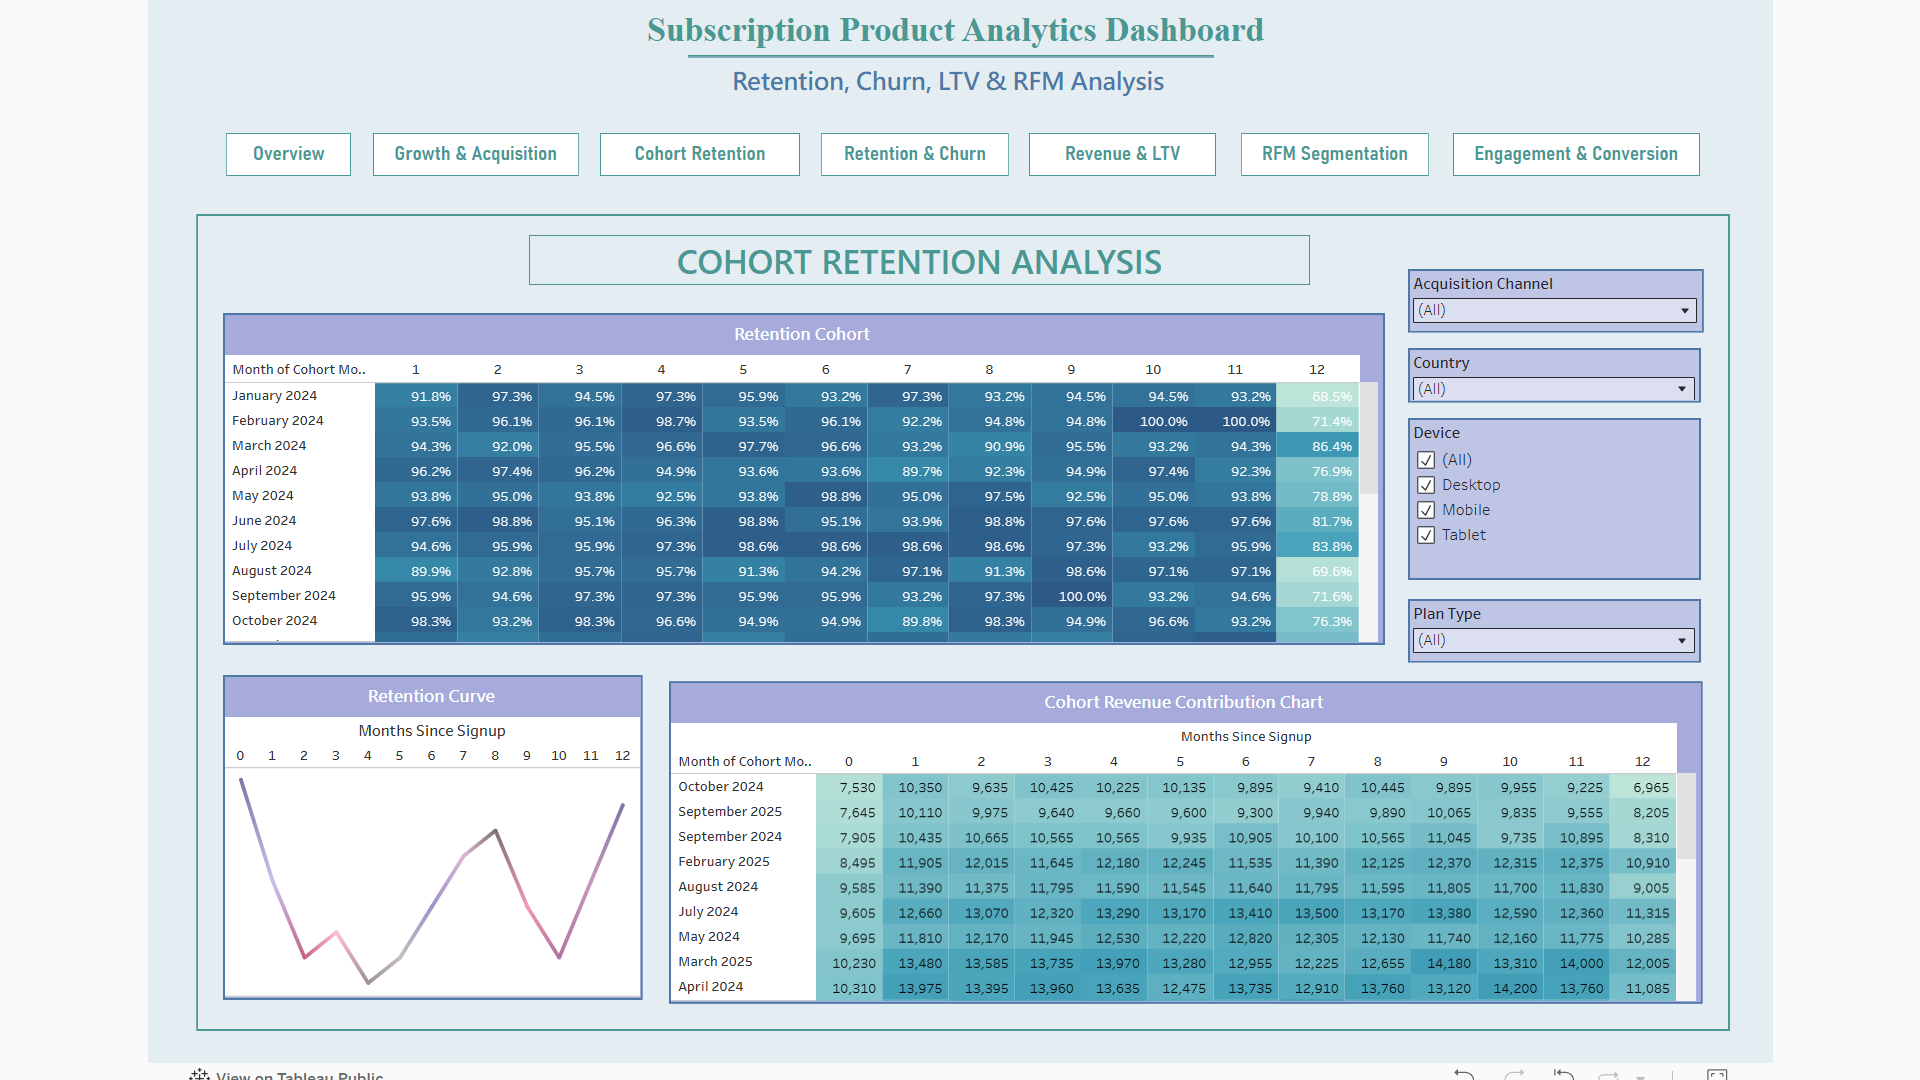

What the dashboard file says about the page in this screenshot:
{"tool":"tableau","page":{"name":"Cohort Retention Analysis","canvas":[1300,850],"ordinal":0},"visuals":[{"type":"blank","box":[432,44,421,2]},{"type":"text","box":[347,50,587,28]},{"type":"blank","box":[56,99,1191,45]},{"type":"dashboard-object","box":[63,106,100,35]},{"type":"dashboard-object","box":[180,106,165,35]},{"type":"dashboard-object","box":[362,106,160,35]},{"type":"dashboard-object","box":[539,106,150,35]},{"type":"dashboard-object","box":[705,106,150,35]},{"type":"dashboard-object","box":[875,106,150,35]},{"type":"dashboard-object","box":[1044,106,198,35]},{"type":"blank","box":[39,171,1227,654]},{"type":"text","box":[305,188,625,40]},{"type":"filter","title":"Retention Curve","param":"[federated.1vvcbkb1517lao19svhhh0a2soji].[none:Acquisition_Channel:nk]","box":[1008,215,237,51]},{"type":"worksheet","title":"Cohort Retention","mark":"Automatic","rows":["Calculation_1112952098219053071"],"cols":["Calculation_1112952098219278353"],"box":[60,250,930,266]},{"type":"filter","title":"Retention Curve","param":"[federated.1vvcbkb1517lao19svhhh0a2soji].[none:Country:nk]","box":[1008,278,235,44]},{"type":"filter","title":"Retention Curve","param":"[federated.1vvcbkb1517lao19svhhh0a2soji].[none:Device:nk]","box":[1008,334,235,130]},{"type":"filter","title":"Retention Curve","param":"[federated.1vvcbkb1517lao19svhhh0a2soji].[none:Plan_Type:nk]","box":[1008,479,235,51]},{"type":"worksheet","title":"Retention Curve","mark":"Line","rows":["Calculation_1112952098429759510"],"cols":["Calculation_1112952098219278353"],"box":[60,540,336,260]},{"type":"worksheet","title":"Cohort Revenue Contribution Chart","mark":"Automatic","rows":["Calculation_1112952098219053071"],"cols":["Calculation_1112952098219278353"],"box":[417,545,827,258]}]}

Visuals, with their boxes on the page's 1300x850 design canvas (x1, y1, x2, y2). These are canvas units, not pixel positions in the 1920x1080 screenshot, which may show the page scaled, cropped or inside an application window:
blank: 432, 44, 853, 46
text: 347, 50, 934, 78
blank: 56, 99, 1247, 144
dashboard-object: 63, 106, 163, 141
dashboard-object: 180, 106, 345, 141
dashboard-object: 362, 106, 522, 141
dashboard-object: 539, 106, 689, 141
dashboard-object: 705, 106, 855, 141
dashboard-object: 875, 106, 1025, 141
dashboard-object: 1044, 106, 1242, 141
blank: 39, 171, 1266, 825
text: 305, 188, 930, 228
"Retention Curve" filter: 1008, 215, 1245, 266
"Cohort Retention" worksheet: 60, 250, 990, 516
"Retention Curve" filter: 1008, 278, 1243, 322
"Retention Curve" filter: 1008, 334, 1243, 464
"Retention Curve" filter: 1008, 479, 1243, 530
"Retention Curve" worksheet (Line marks): 60, 540, 396, 800
"Cohort Revenue Contribution Chart" worksheet: 417, 545, 1244, 803
